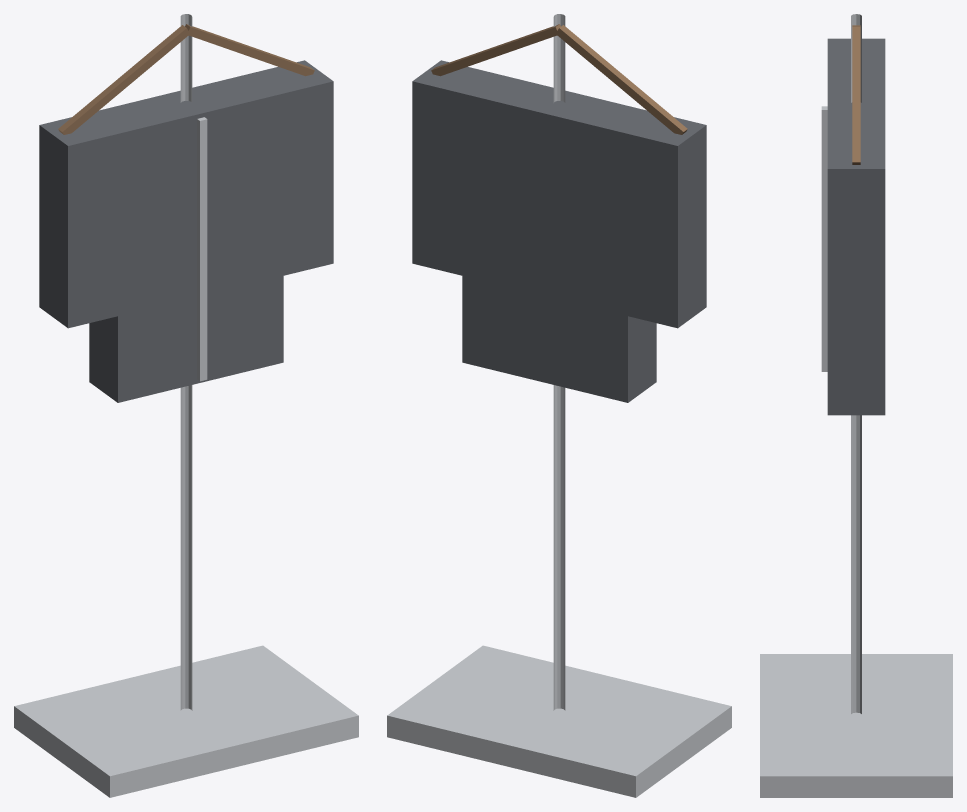
File: bank-vault-heist-kit-disguise-uniform-23a7ec20__25135.glb
The picture shows the model from 3 angles, left to right: view 1: azimuth 30°, elevation 25°; view 2: azimuth 150°, elevation 25°; view 3: azimuth 270°, elevation 25°; orthographic projection.
Parts seen in each view (by area): view 1: disguise-uniform; view 2: disguise-uniform; view 3: disguise-uniform.
Part boxes in pixels (x1,y1,x2,y2): disguise-uniform: [14, 14, 358, 797]; disguise-uniform: [387, 14, 731, 797]; disguise-uniform: [760, 14, 952, 797].
Size of the model in its own units: 0.64 by 1.65 by 0.4.
